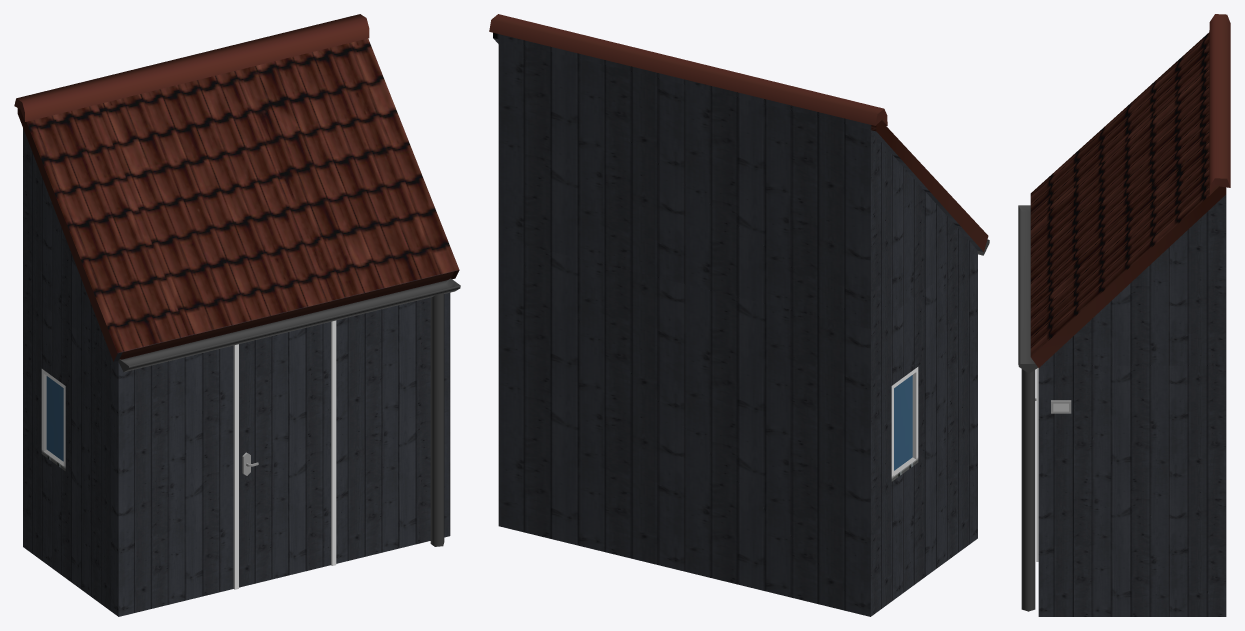
The model's file is schuur half deel 4.fbx.
The picture shows the model from 3 angles, left to right: view 1: azimuth 30°, elevation 25°; view 2: azimuth 150°, elevation 25°; view 3: azimuth 270°, elevation 25°; orthographic projection. The views are drawn at different scales.
Visible parts, largest first — view 1: schuur_half_deel_4; view 2: schuur_half_deel_4; view 3: schuur_half_deel_4.
Part boxes in pixels (x1,y1,x2,y2): schuur_half_deel_4: (14, 14, 460, 616); schuur_half_deel_4: (489, 14, 989, 616); schuur_half_deel_4: (1018, 14, 1230, 616).
Bounding box in the file's own units: 3.11 × 3.89 × 1.69.
